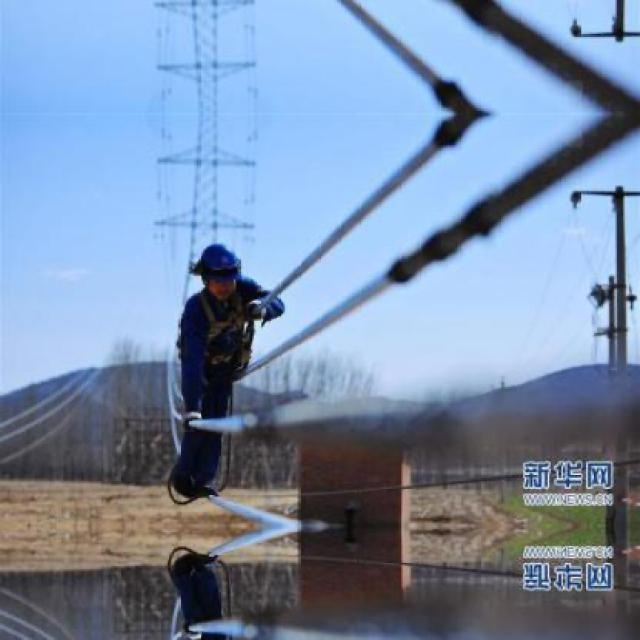Arnes_seguridad: (187, 285, 255, 378)
